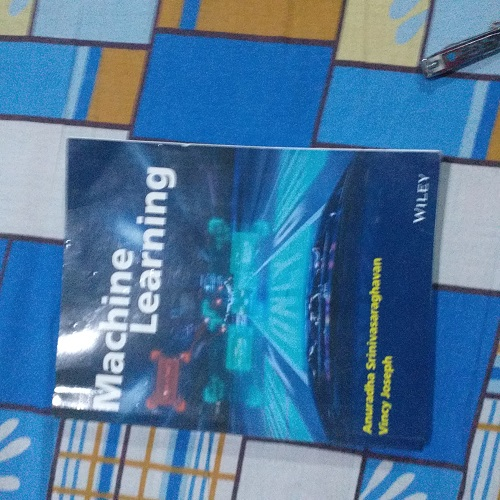book: (30, 138, 487, 451)
